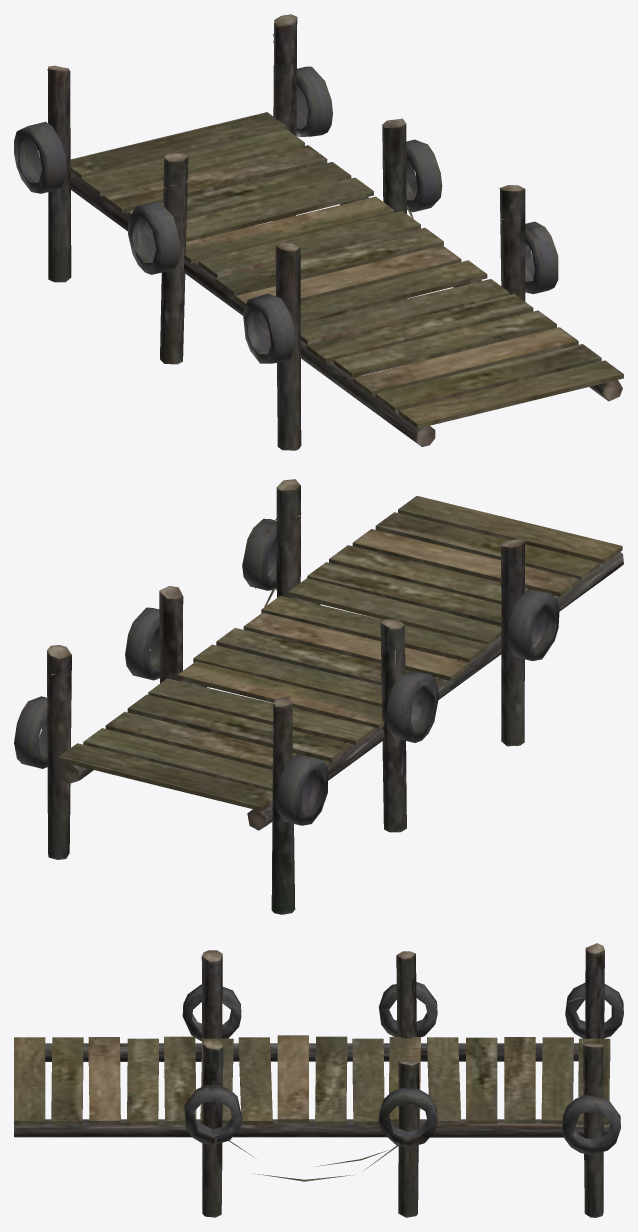
File: old-pier.lod1.glb
The picture shows the model from 3 angles, top to bottom: view 1: azimuth 30°, elevation 25°; view 2: azimuth 150°, elevation 25°; view 3: azimuth 270°, elevation 25°; orthographic projection. The views are drawn at different scales.
Visible parts, largest first — view 1: defaultMaterial; view 2: defaultMaterial; view 3: defaultMaterial.
Boxes of the visible parts, <box> form: defaultMaterial: <box>14,14,623,450</box>; defaultMaterial: <box>14,479,623,914</box>; defaultMaterial: <box>14,943,623,1217</box>.
Bounding box in the file's own units: 18.08 × 12.69 × 40.
Materials: 1 (1 with a texture image).
